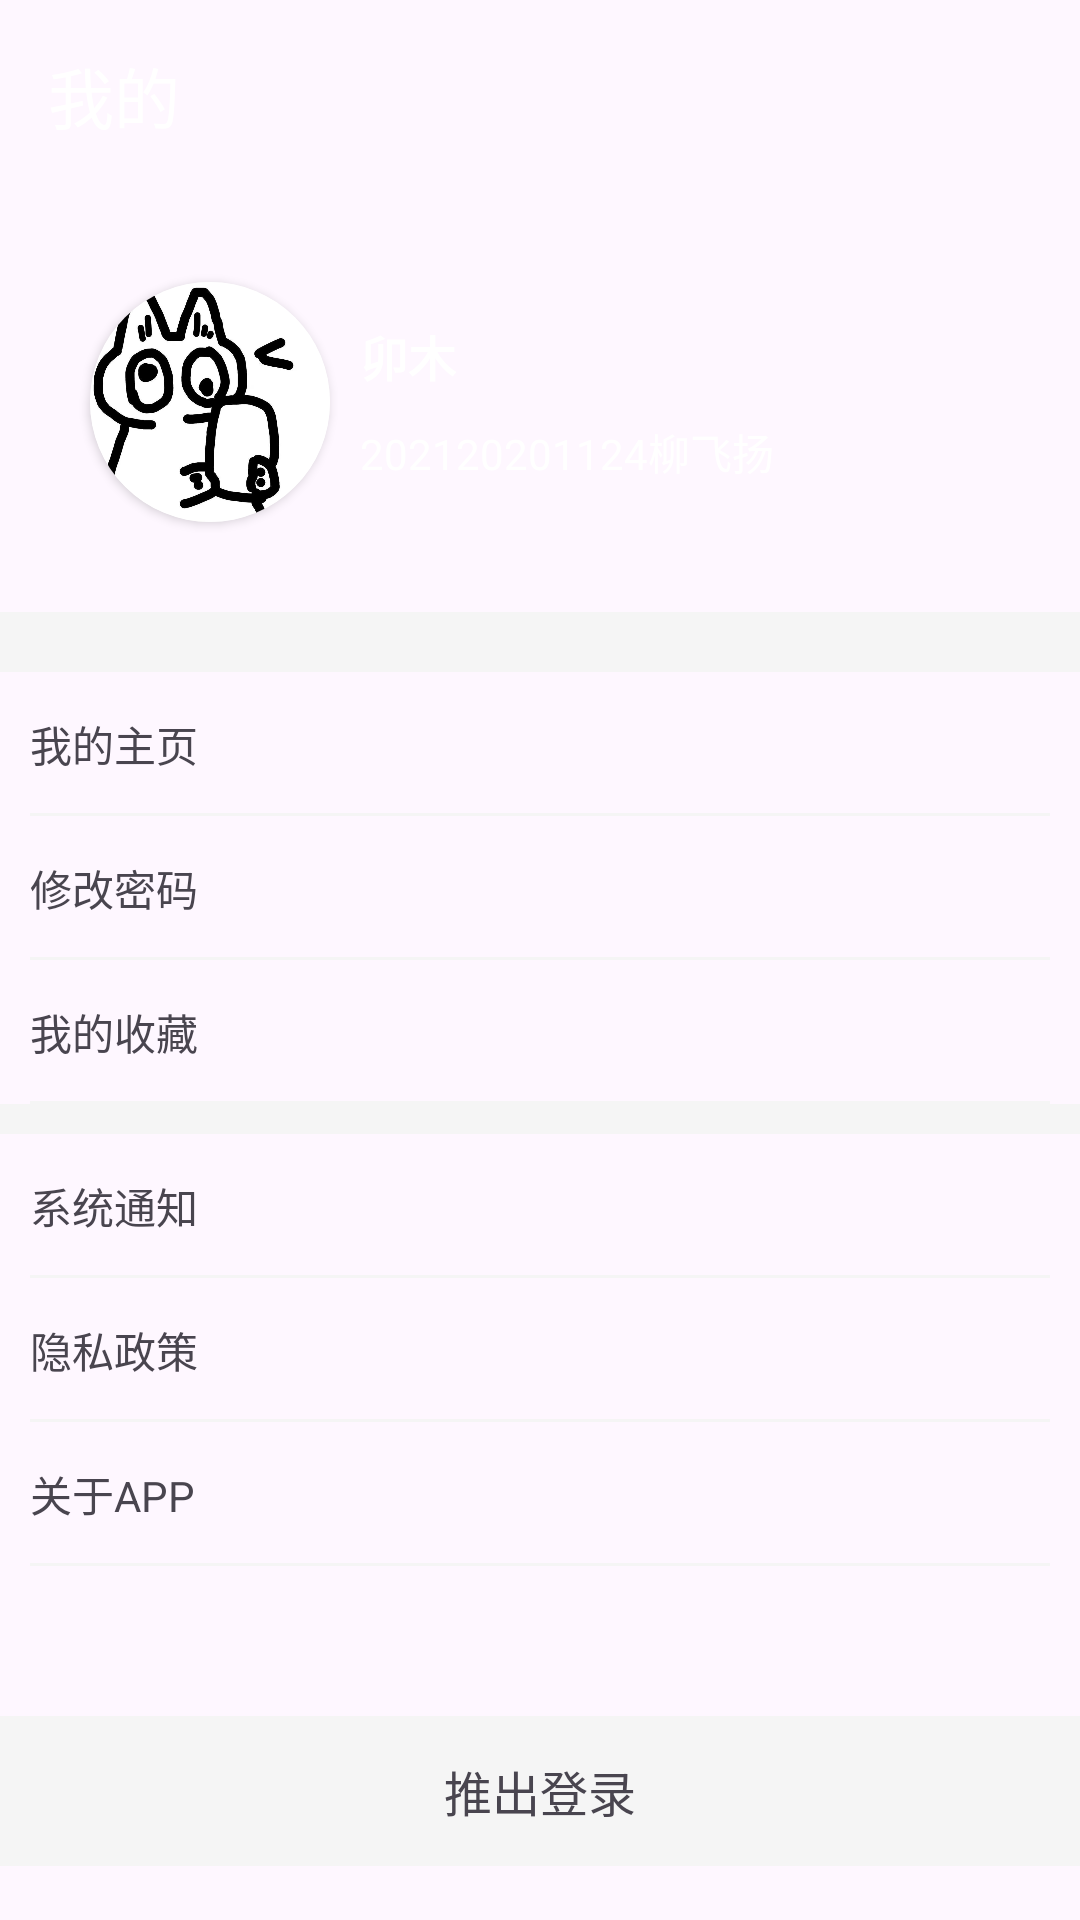

Icon click points for this 1080×1920 phone screenshot, format [x,y]:
touxiang: [210,402]
